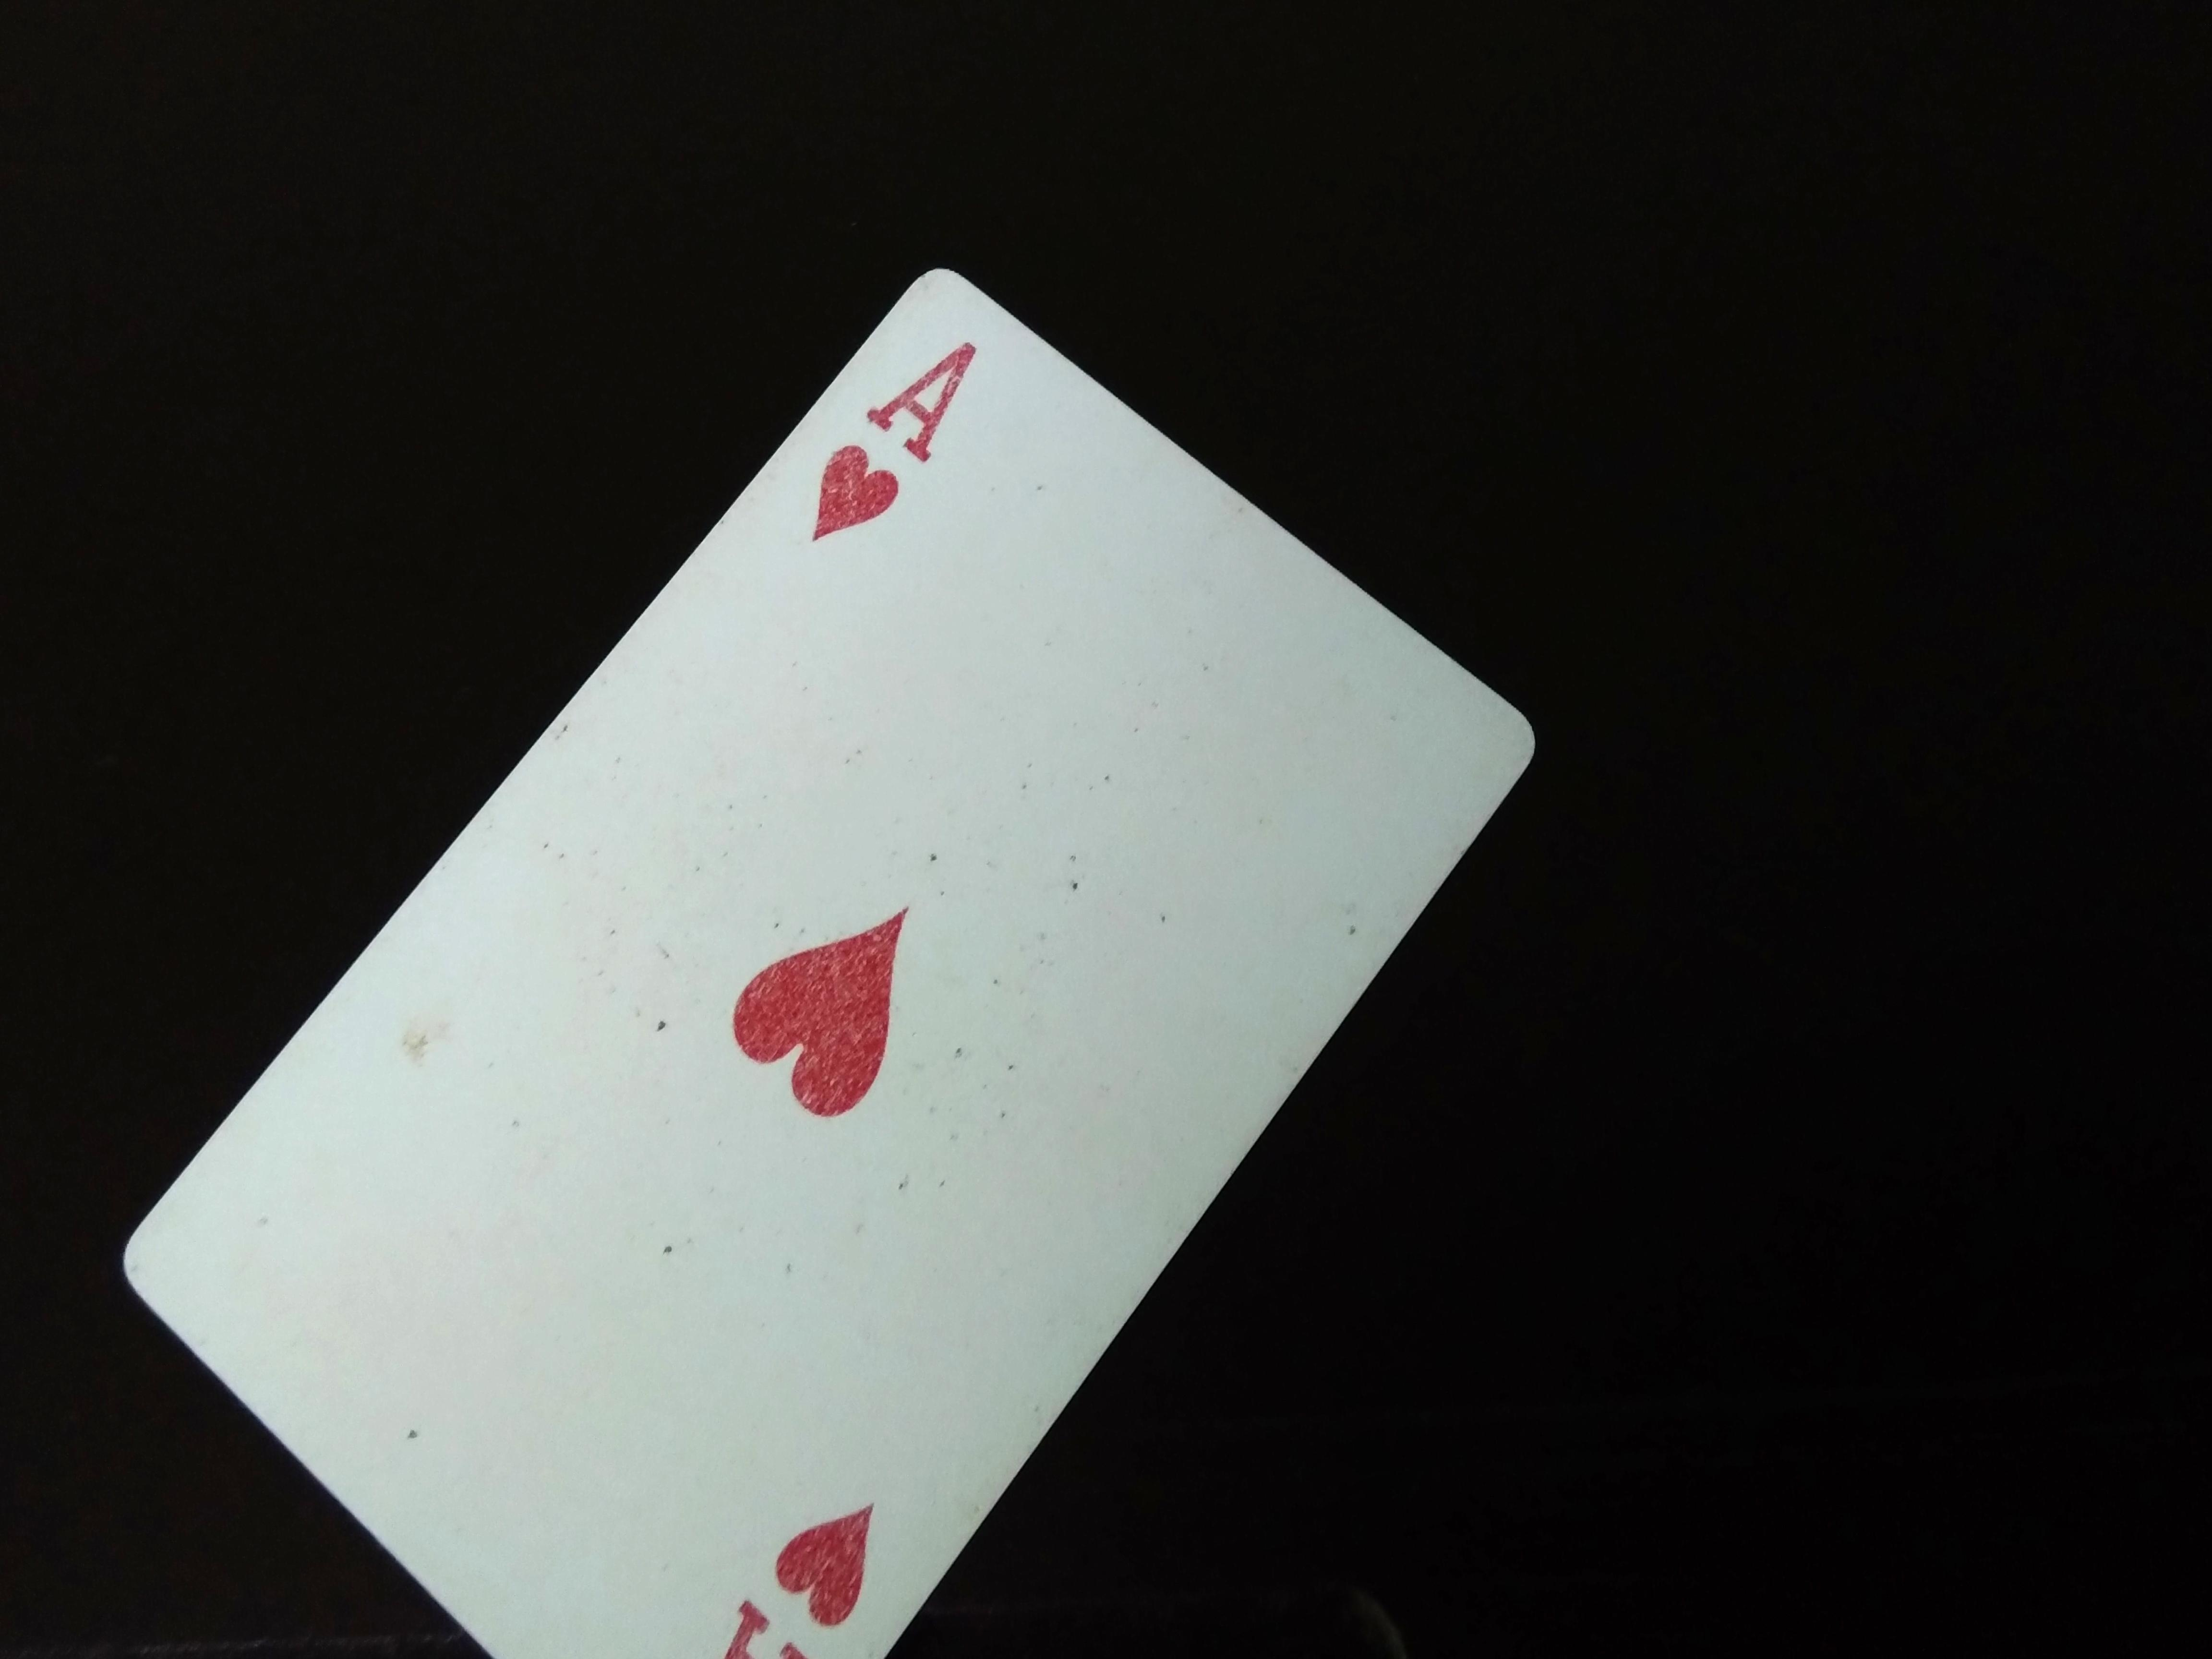AH: (796, 315, 979, 568)
